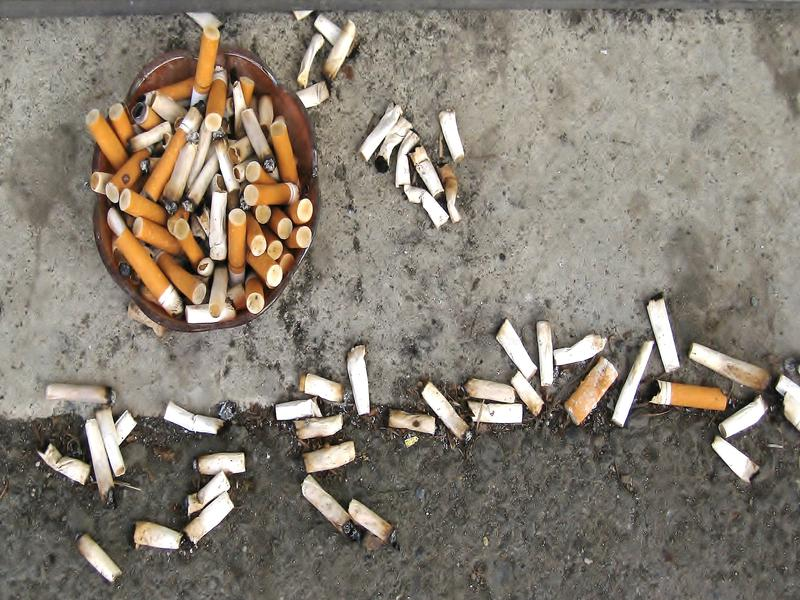burned_cigarette: (292, 478, 366, 547), (556, 356, 620, 426), (419, 374, 477, 447), (82, 408, 128, 500), (706, 434, 769, 492), (485, 317, 540, 382), (643, 289, 683, 374), (642, 377, 729, 415), (64, 532, 127, 584), (29, 439, 92, 488), (339, 341, 377, 420), (294, 437, 362, 475), (161, 398, 229, 435), (376, 400, 440, 439), (40, 379, 119, 410), (129, 516, 185, 555), (189, 447, 254, 478), (465, 400, 529, 430), (270, 391, 324, 425)
